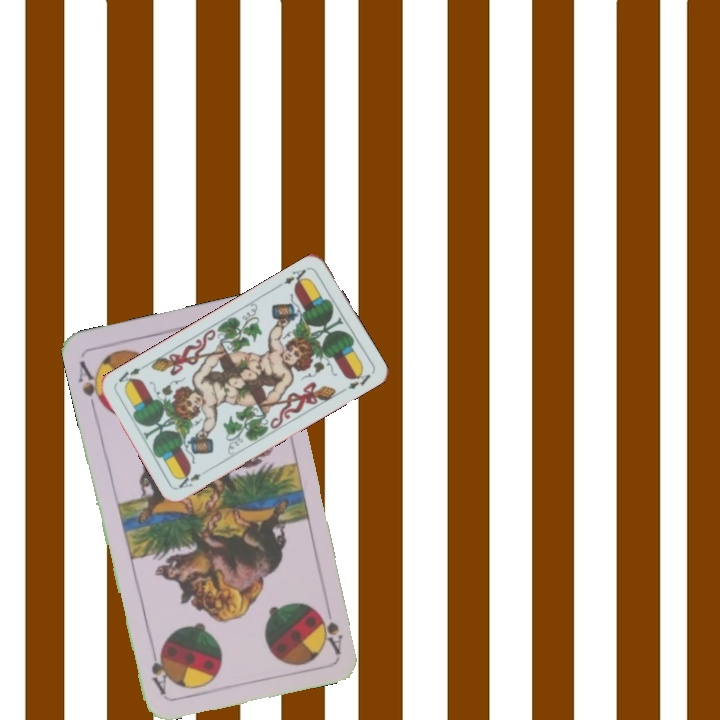EA: (279, 264, 311, 289), (174, 469, 203, 491)
SA: (74, 356, 108, 414), (319, 597, 346, 656)
